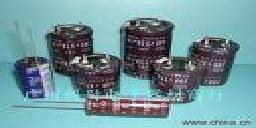Electrolytic-capacitor: (12, 93, 181, 122), (118, 14, 171, 85), (9, 19, 55, 96), (192, 33, 242, 93), (154, 57, 199, 103), (71, 53, 119, 96), (47, 24, 96, 57)
